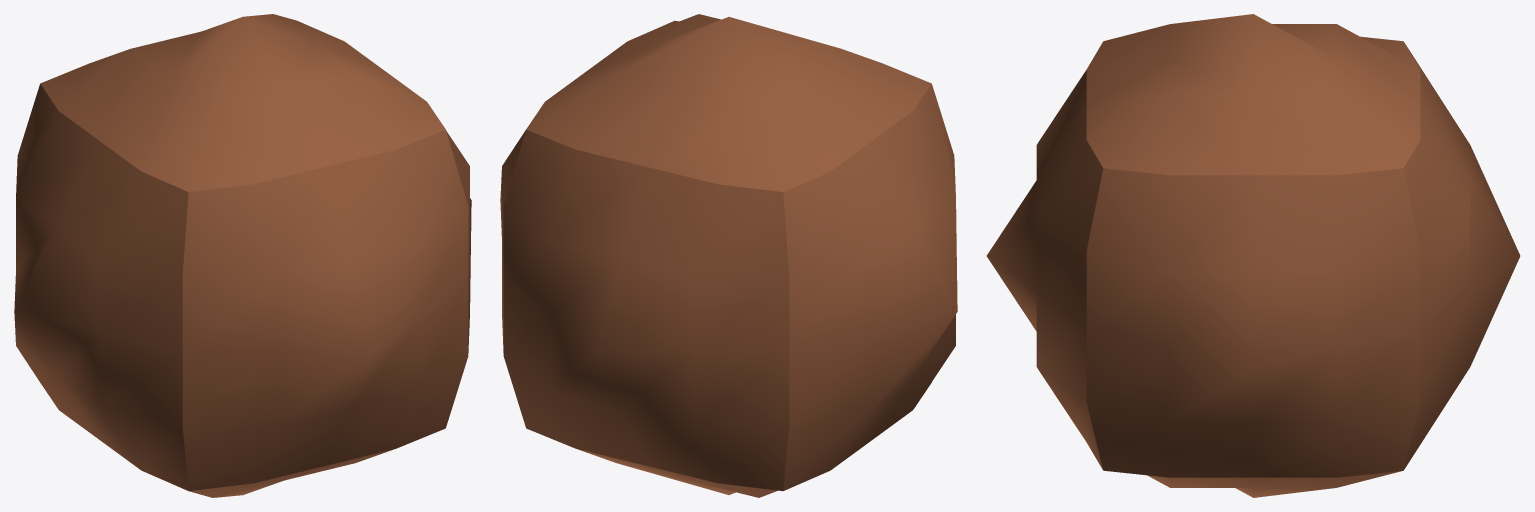
The model's file is Meteor.FBX.
3 renders of one model, left to right at view 1: azimuth 30°, elevation 25°; view 2: azimuth 150°, elevation 25°; view 3: azimuth 270°, elevation 25°, orthographic.
Parts seen in each view (by area): view 1: Box003; view 2: Box003; view 3: Box003.
Part boxes in pixels (x1,y1,x2,y2): Box003: (14,14,471,497); Box003: (500,14,957,497); Box003: (986,14,1520,497).
Size of the model in its own units: 32 by 32 by 32.
